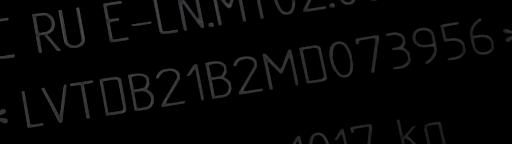letter: (260, 46, 302, 90), (296, 40, 330, 84), (96, 73, 130, 116), (154, 65, 188, 108), (38, 81, 68, 126), (438, 18, 468, 63), (232, 53, 264, 95), (352, 32, 382, 74), (409, 25, 439, 66), (382, 29, 412, 70), (67, 77, 95, 120), (202, 59, 232, 99), (126, 71, 156, 111), (18, 87, 46, 128), (468, 15, 496, 56), (327, 39, 355, 79), (184, 61, 206, 103)
